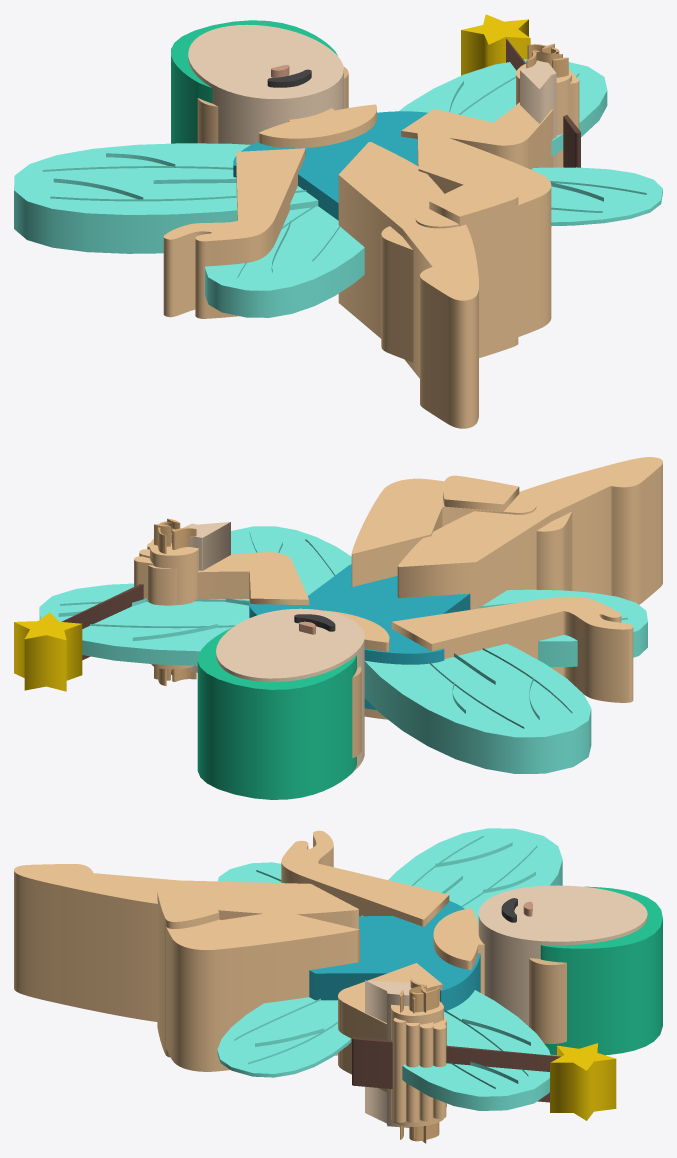
The model's file is emoji_u1f9da_1f3fb_200d_2642.glb.
3 views of the same model, one above another, from view 1: azimuth 30°, elevation 25°; view 2: azimuth 150°, elevation 25°; view 3: azimuth 270°, elevation 25° (orthographic). The views are drawn at different scales.
Visible parts, largest first — view 1: emoji_u1f9da_1f3fb_200d_2642; view 2: emoji_u1f9da_1f3fb_200d_2642; view 3: emoji_u1f9da_1f3fb_200d_2642.
Boxes of the visible parts, x1,y1,x2,y2 form: emoji_u1f9da_1f3fb_200d_2642: [14, 14, 662, 428]; emoji_u1f9da_1f3fb_200d_2642: [14, 457, 662, 799]; emoji_u1f9da_1f3fb_200d_2642: [14, 828, 662, 1143].
Size of the model in its own units: 0.0309 by 0.0084 by 0.0328.
